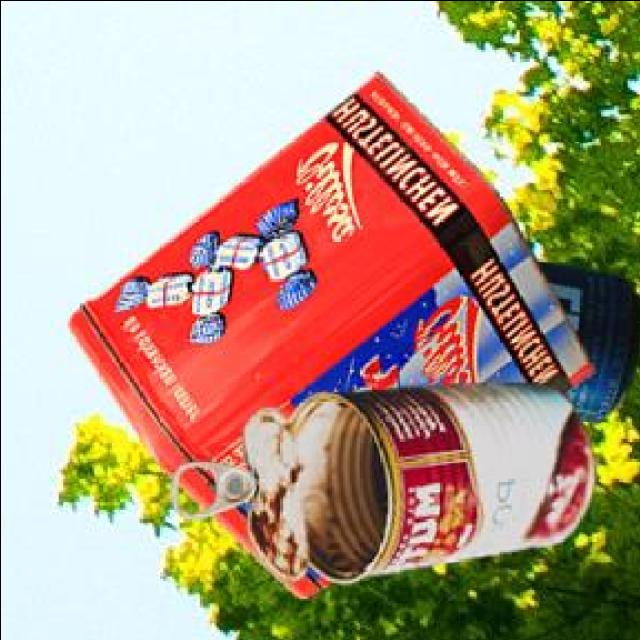logam: (70, 68, 597, 594), (174, 379, 597, 579), (540, 257, 640, 417)
